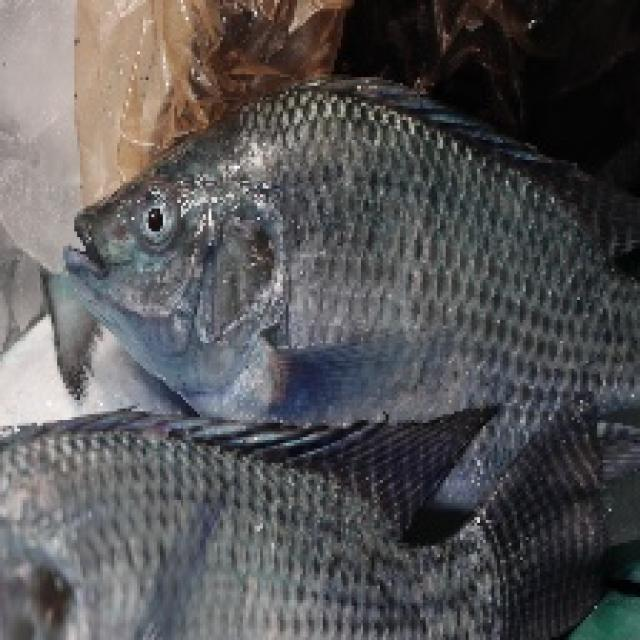Fresh: (58, 73, 519, 432)
